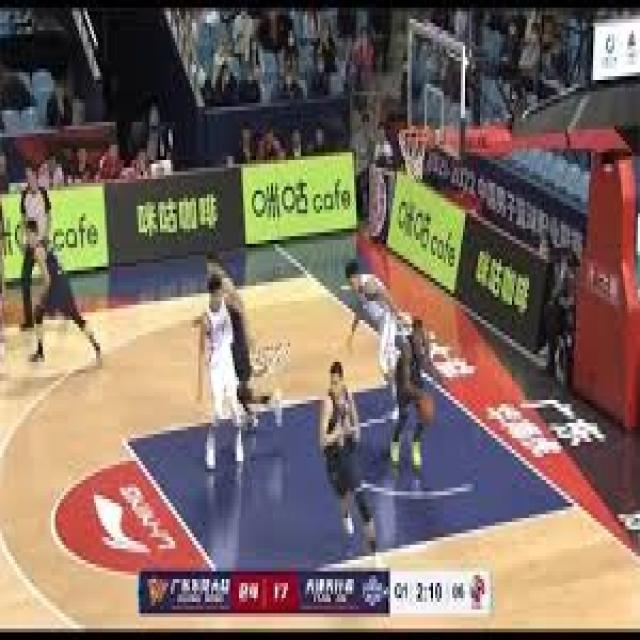rim: (416, 388, 435, 423)
